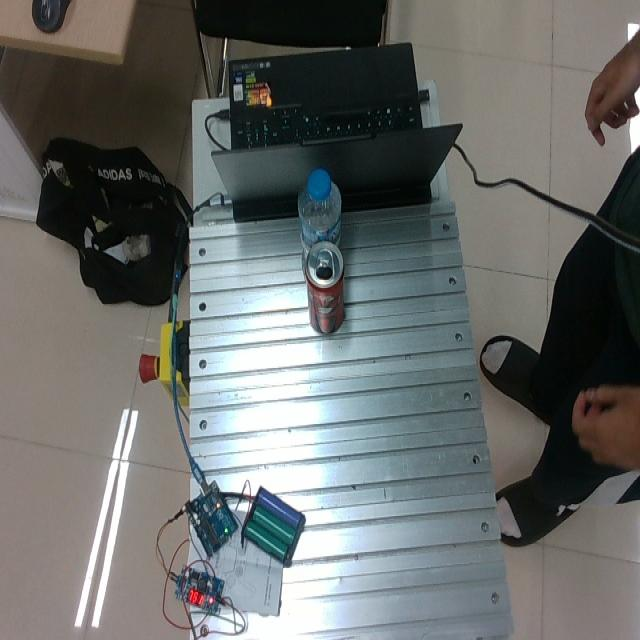coca: (303, 240, 345, 335)
lavie: (297, 167, 343, 272)
